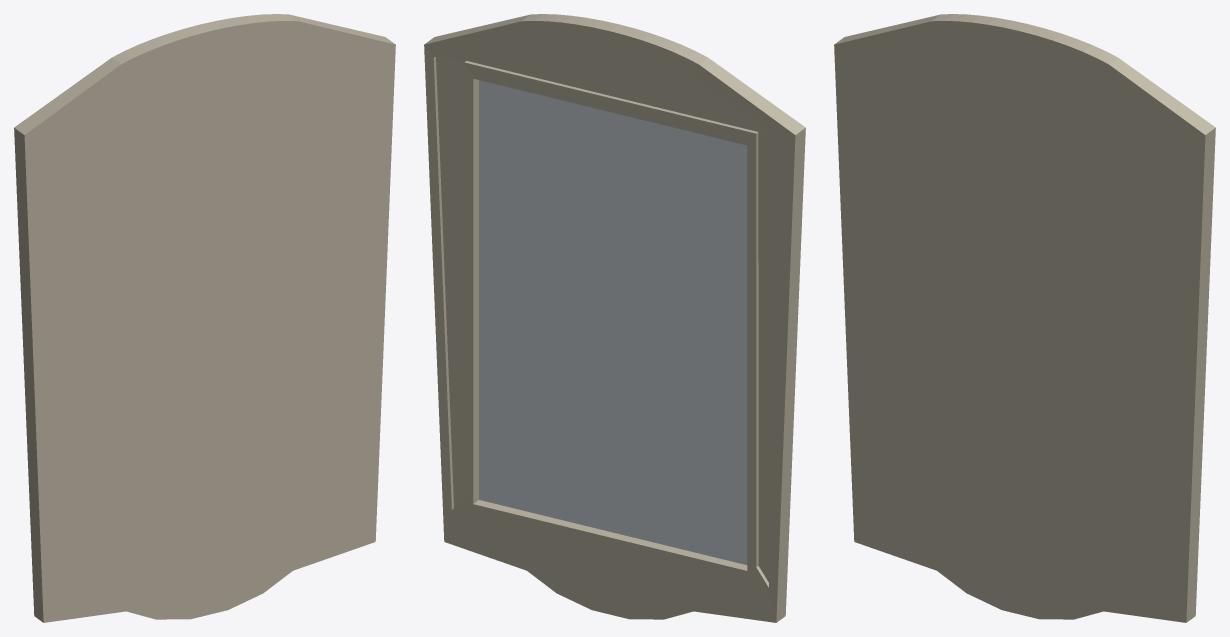
Rendered from Mirror.fbx.
3 renders of one model, left to right at view 1: azimuth 30°, elevation 25°; view 2: azimuth 150°, elevation 25°; view 3: azimuth 330°, elevation 25°, orthographic.
Visible parts, largest first — view 1: Cube.007; view 2: Cube.008, Cube.007; view 3: Cube.007.
Part boxes in pixels (left/top/right/bottom): Cube.007: left=14, top=14, right=395, bottom=622; Cube.008: left=479, top=80, right=747, bottom=564; Cube.007: left=424, top=14, right=805, bottom=622; Cube.007: left=834, top=14, right=1215, bottom=622.
Bounding box in the file's own units: 64.18 × 96.35 × 3.13.
